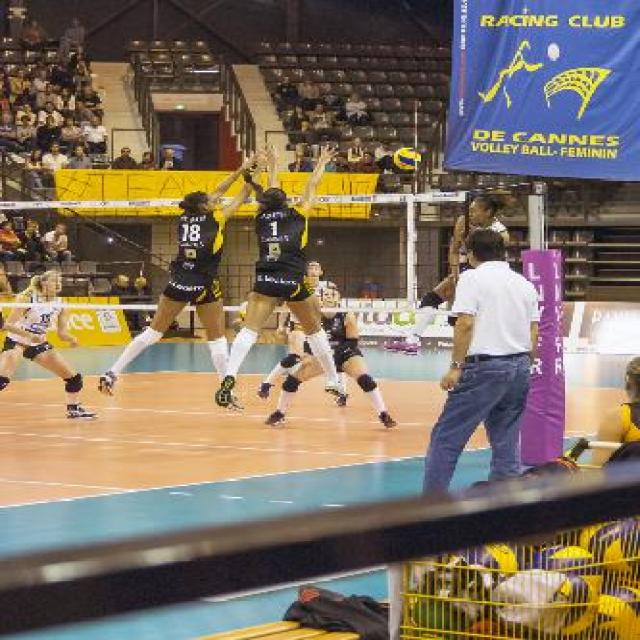Volleyball: (391, 144, 423, 170)
